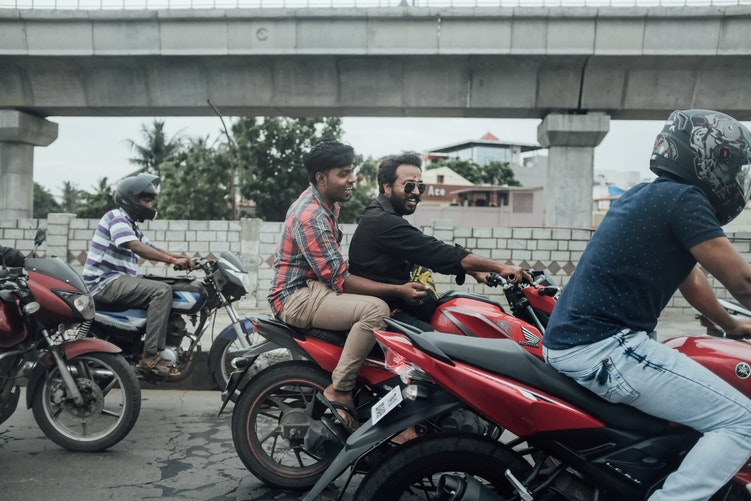helmet: (646, 96, 751, 200), (106, 168, 164, 218)
